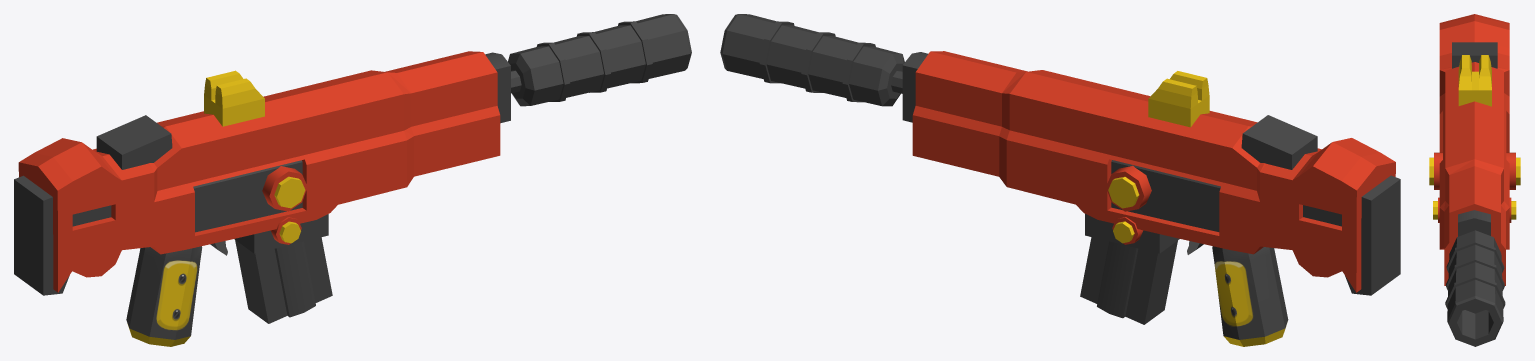
The model's file is sung 01.fbx.
The picture shows the model from 3 angles, left to right: view 1: azimuth 30°, elevation 25°; view 2: azimuth 150°, elevation 25°; view 3: azimuth 270°, elevation 25°; orthographic projection. The views are drawn at different scales.
Parts seen in each view (by area): view 1: Object001; view 2: Object001; view 3: Object001.
Boxes of the visible parts, x1=… form: Object001: x1=14, y1=14, x2=691, y2=346; Object001: x1=720, y1=14, x2=1400, y2=346; Object001: x1=1429, y1=14, x2=1520, y2=346.
Bounding box in the file's own units: 26.79 × 9.66 × 3.64.
Materials: 1 (1 with a texture image).
